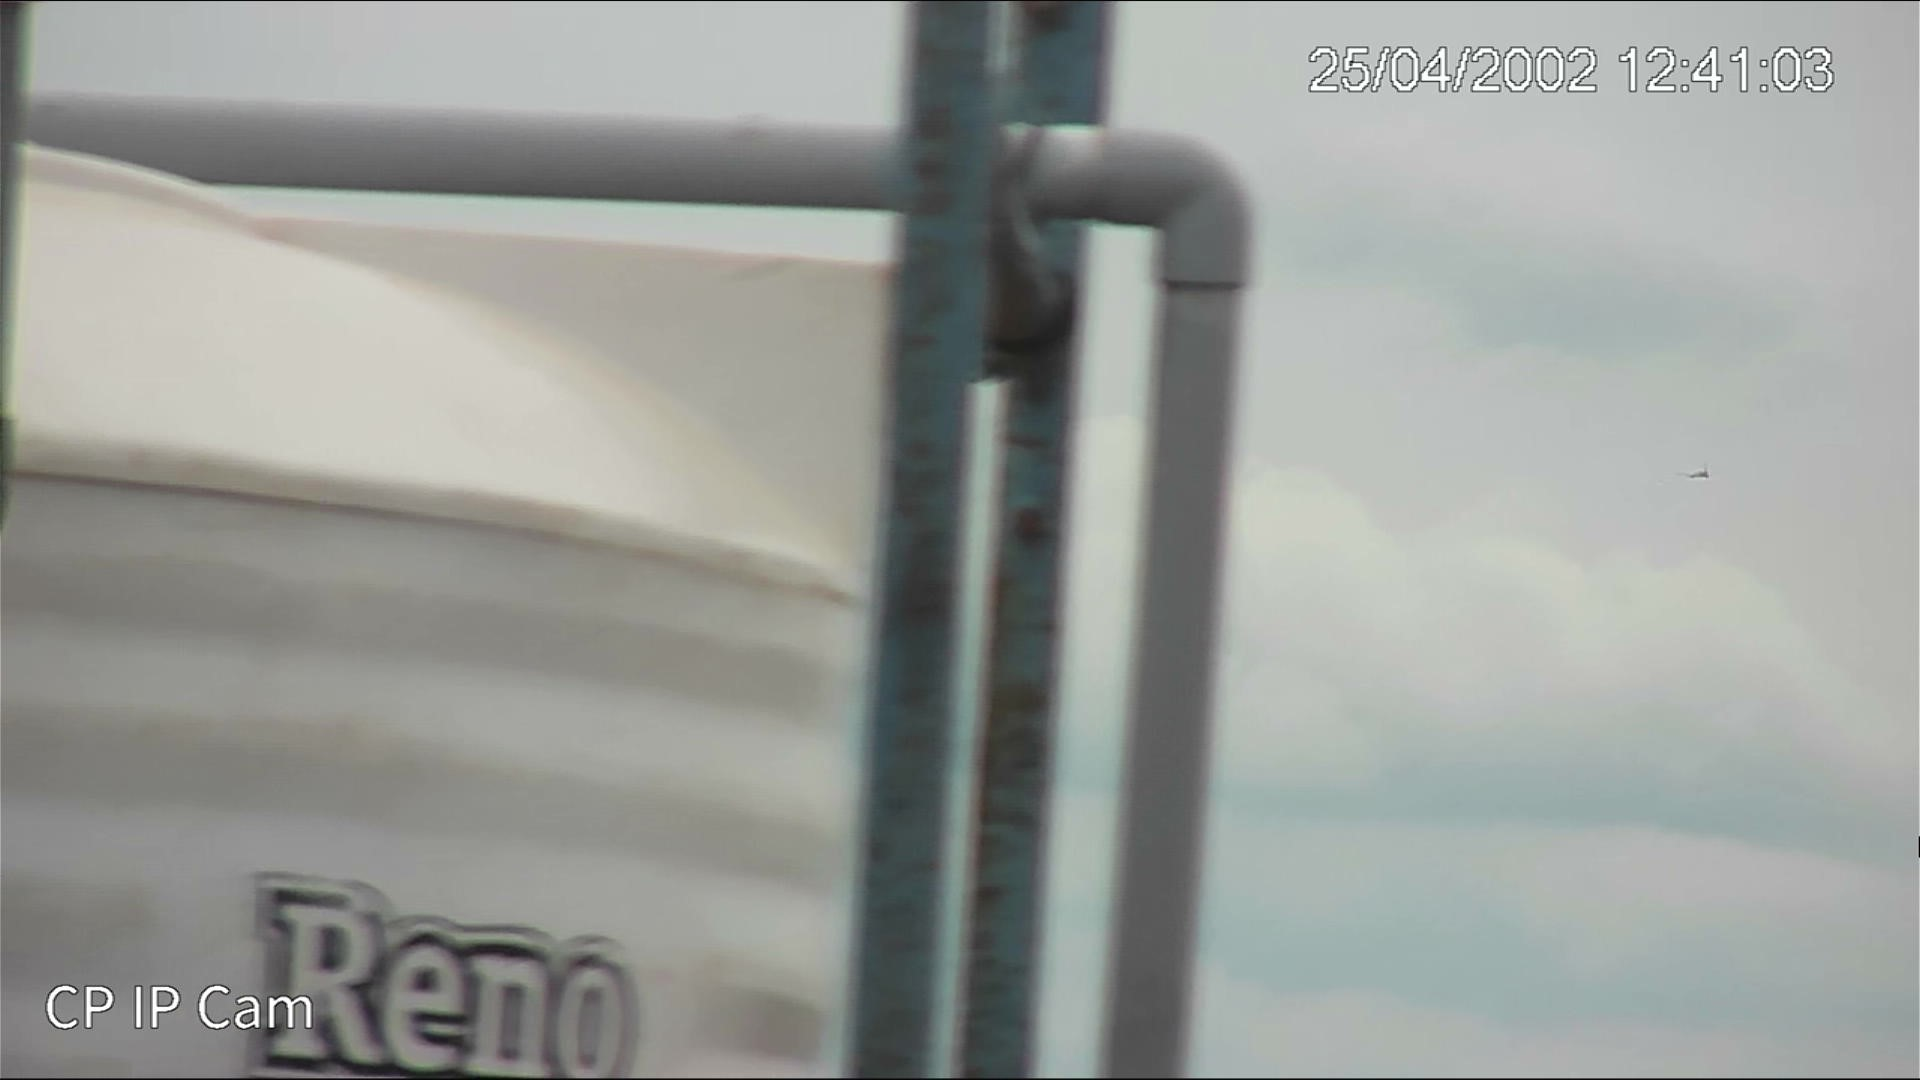SU_30: (1683, 467, 1712, 481)
